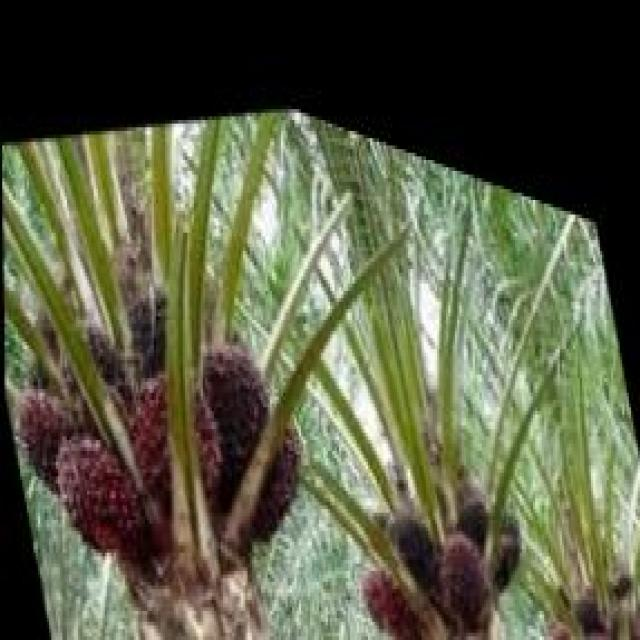Ripefruit: (44, 391, 150, 587), (124, 329, 228, 515), (7, 358, 80, 507), (352, 520, 420, 640), (588, 571, 628, 640), (544, 571, 582, 640)
